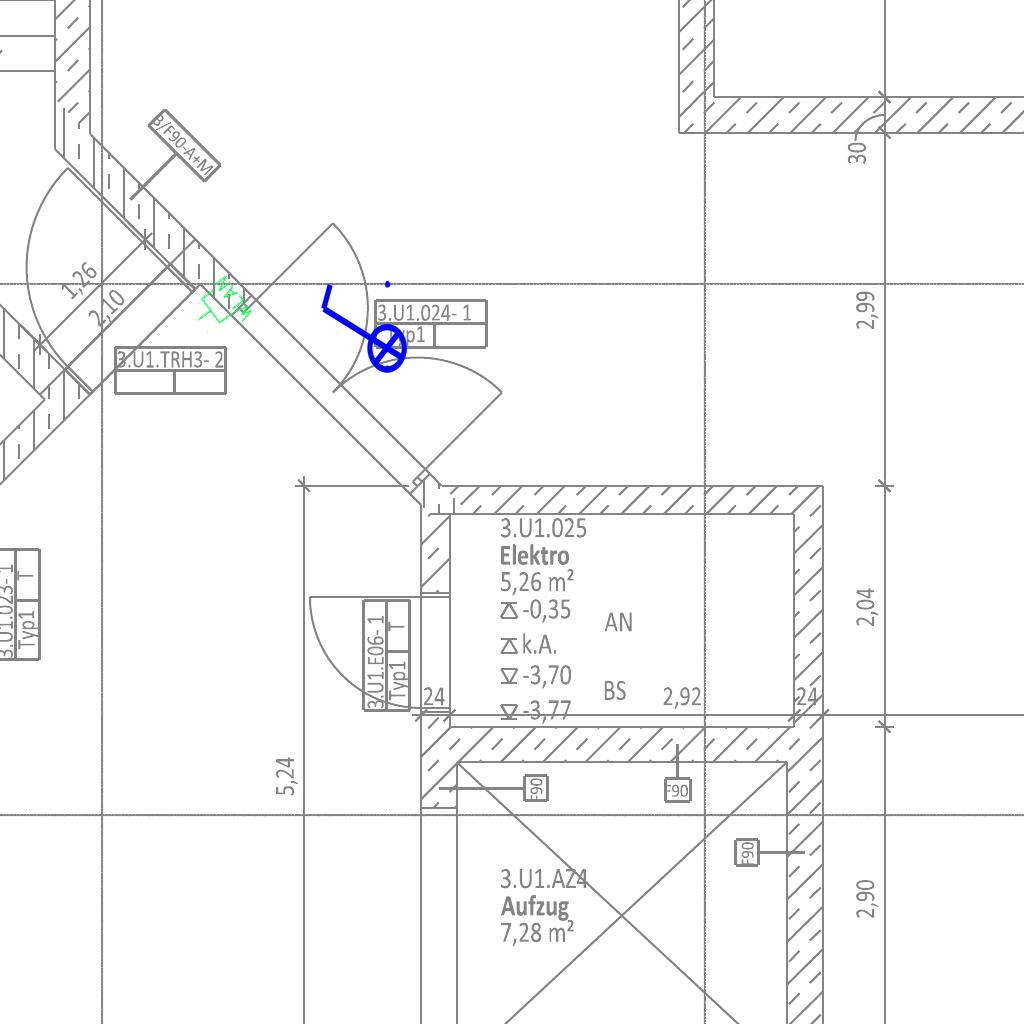Ausschalter_beleuchtet: (313, 275, 409, 387)
WLAN: (184, 272, 258, 346)
